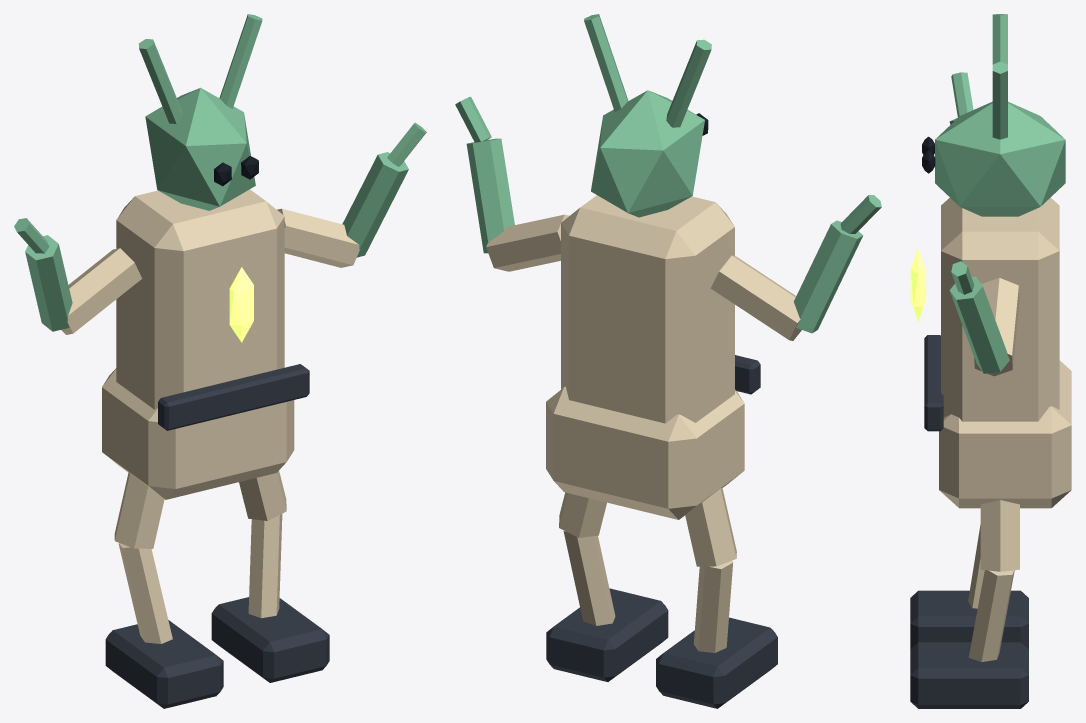
The model's file is npcs_011_seed11.glb.
3 renders of one model, left to right at view 1: azimuth 30°, elevation 25°; view 2: azimuth 150°, elevation 25°; view 3: azimuth 270°, elevation 25°, orthographic. The views are drawn at different scales.
Visible parts, largest first — view 1: npcs_011_seed11; view 2: npcs_011_seed11; view 3: npcs_011_seed11.
Part boxes in pixels (left/top/right/bottom): npcs_011_seed11: left=14, top=14, right=426, bottom=708; npcs_011_seed11: left=455, top=14, right=881, bottom=708; npcs_011_seed11: left=910, top=14, right=1071, bottom=708.
Bounding box in the file's own units: 1.39 × 2.04 × 0.4741.
